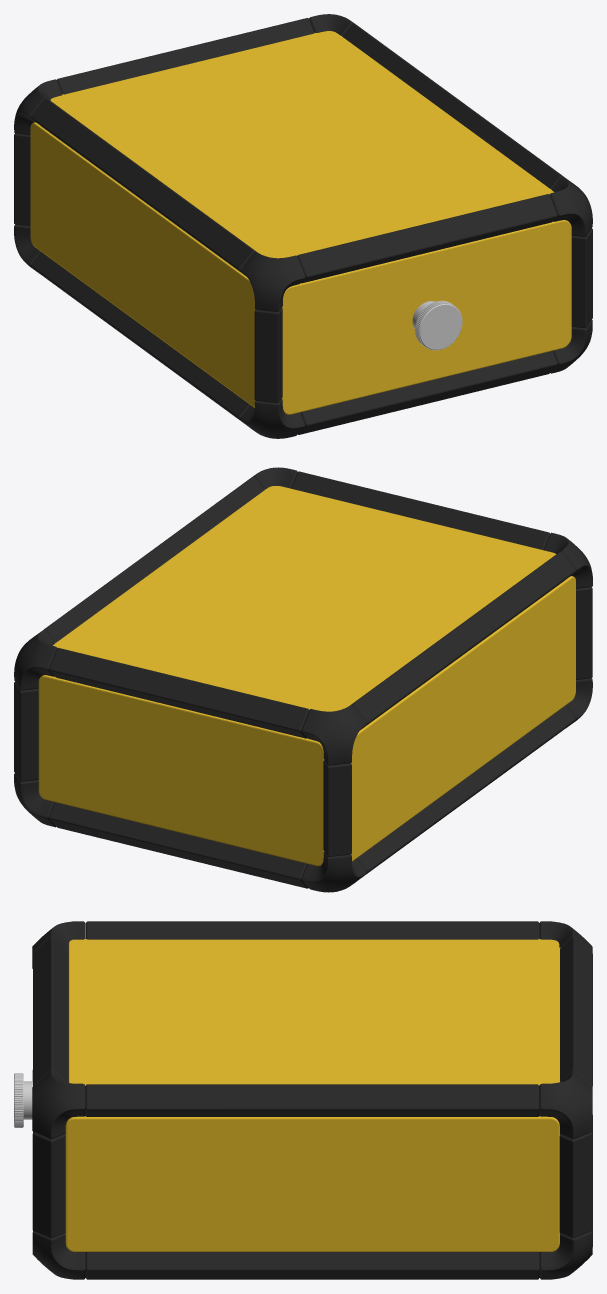
3 views of the same model, one above another, from view 1: azimuth 30°, elevation 25°; view 2: azimuth 150°, elevation 25°; view 3: azimuth 270°, elevation 25° (orthographic). The views are drawn at different scales.
Parts seen in each view (by area): view 1: 229x329x79; view 2: 229x329x79; view 3: 229x329x79.
Boxes of the visible parts, x1,y1,x2,y2 form: 229x329x79: (14,14,592,438); 229x329x79: (14,467,592,892); 229x329x79: (14,921,592,1279).
Bounding box in the file's own units: 0.3067 × 0.1566 × 0.4196.
